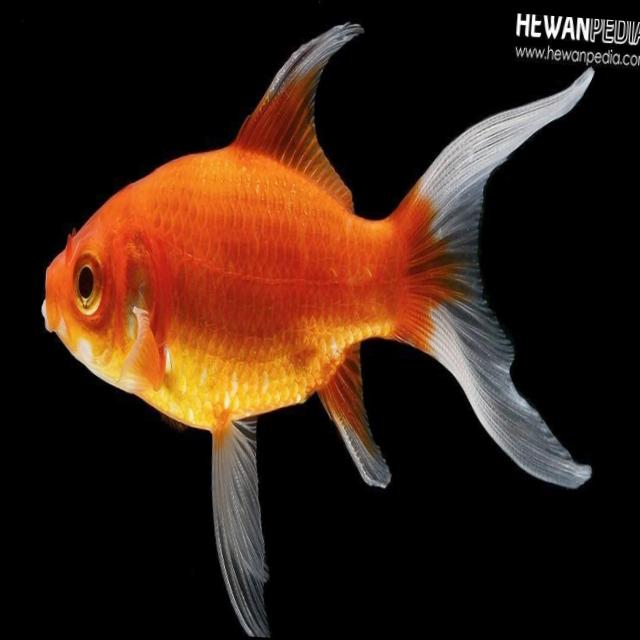GoldFish: (21, 5, 618, 640)
